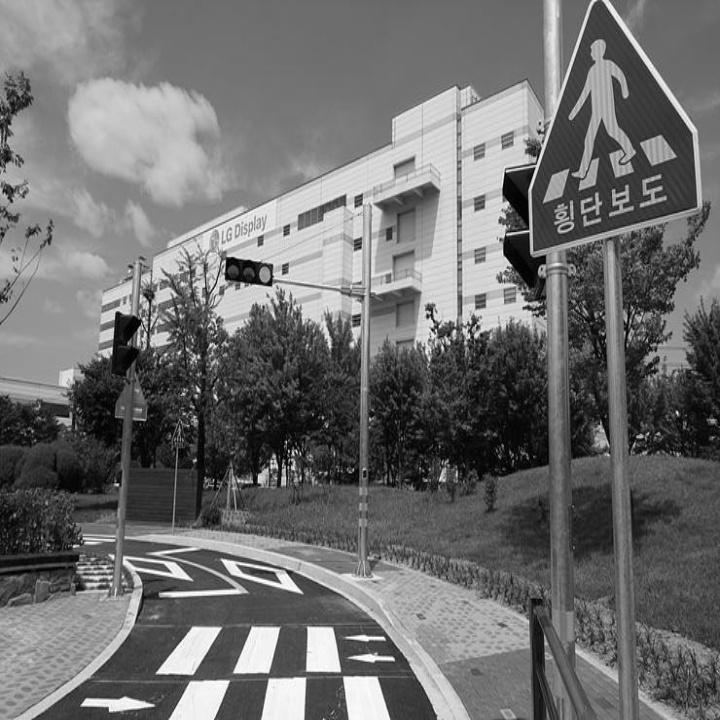cross: (538, 22, 684, 211)
